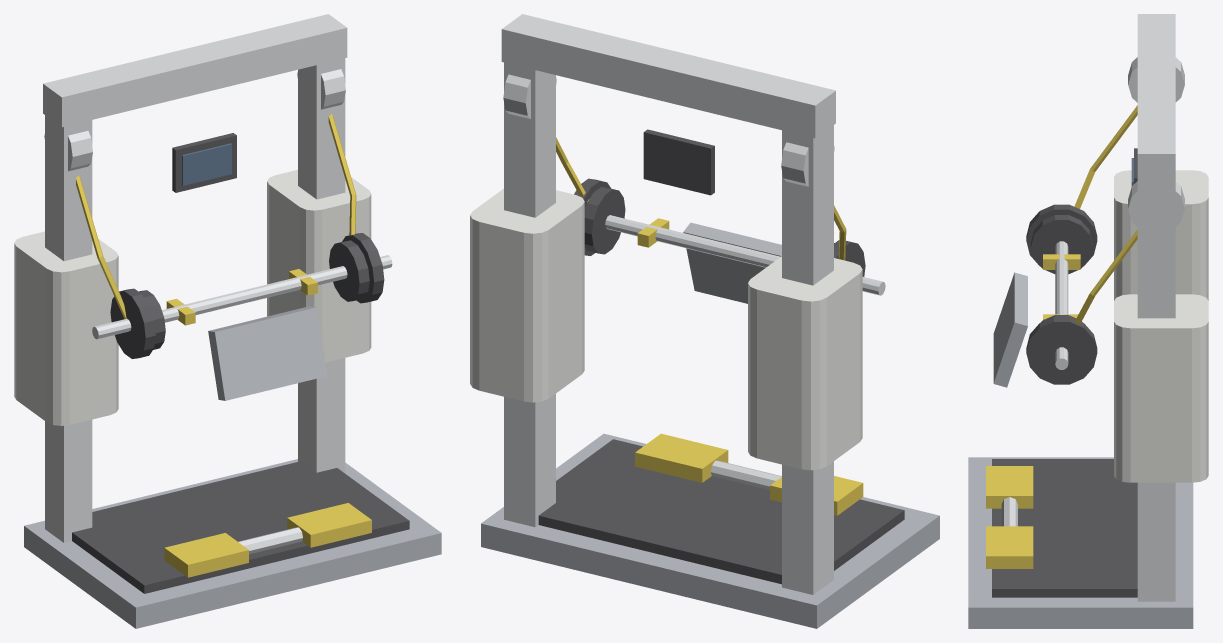
File: orbital-station-and-docking-bays-exercise-device-c2723dea__24574.glb
3 views of the same model, side by side, from view 1: azimuth 30°, elevation 25°; view 2: azimuth 150°, elevation 25°; view 3: azimuth 270°, elevation 25° (orthographic). The views are drawn at different scales.
Parts seen in each view (by area): view 1: exercise-device; view 2: exercise-device; view 3: exercise-device.
Part boxes in pixels (x1,y1,x2,y2): exercise-device: (14,14,441,628); exercise-device: (470,14,939,628); exercise-device: (968,14,1208,628).
Size of the model in its own units: 1.58 by 2.19 by 1.02.
